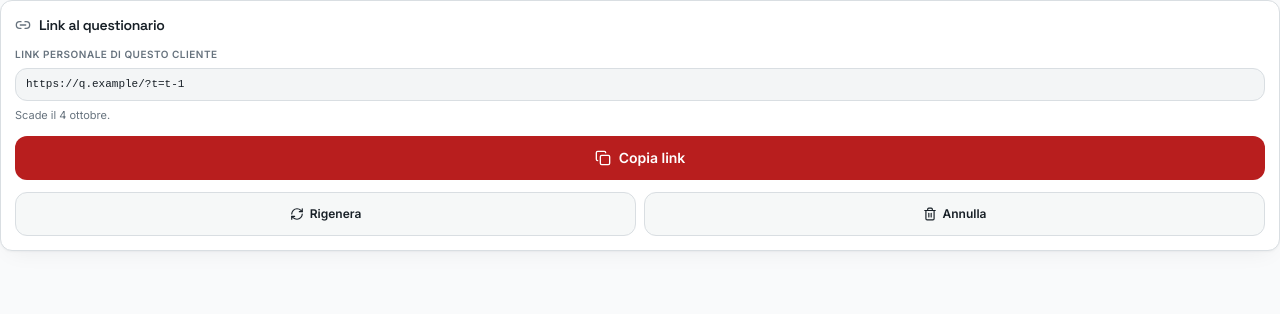
it: link al questionario — tre stati, una cosa da fare per volta › rigenera: «Lascia stare» non tocca niente
Click the button "Rigenera" at (326, 214), box x1=15 y1=192 x2=636 y2=236
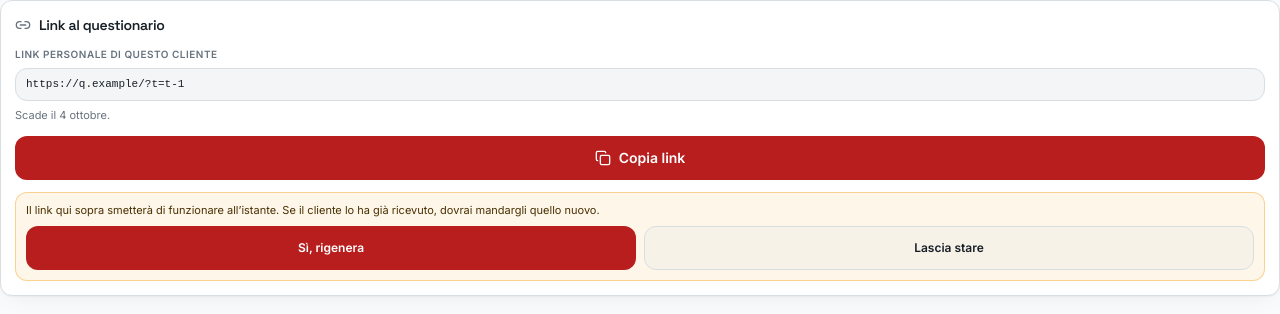
Click the button "Lascia stare" at (949, 248), box x1=644 y1=226 x2=1254 y2=270
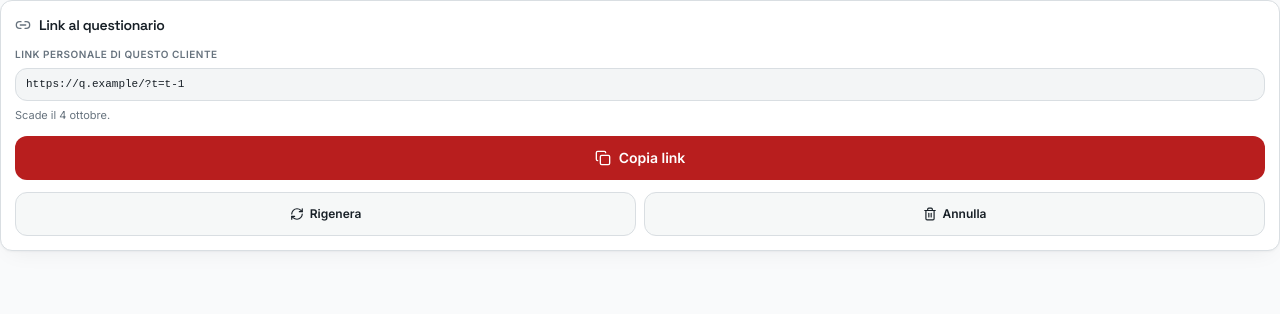
Now the text "smetterà di funzionare" is gone
